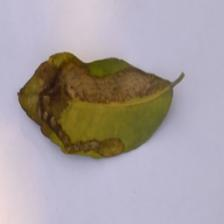black spot: (18, 52, 168, 155)
